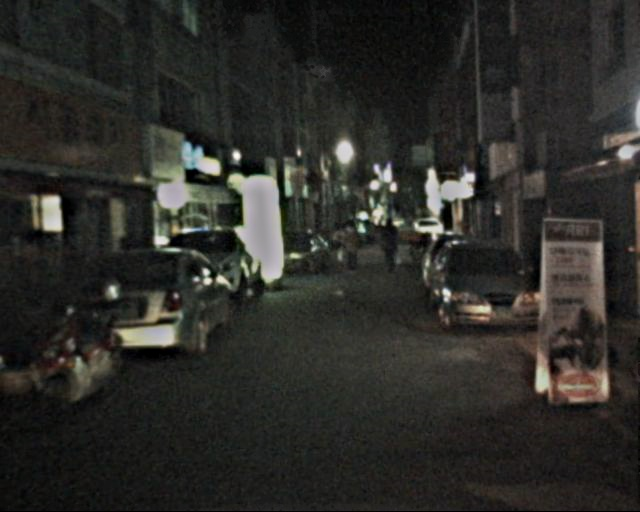person: (340, 219, 366, 283), (378, 218, 403, 279)
